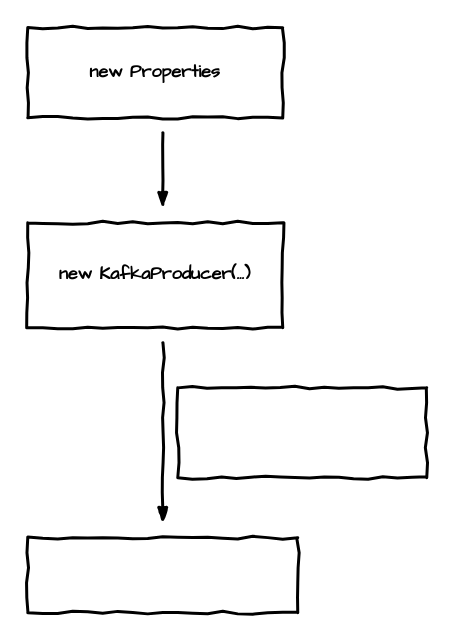
The diagram is 453 pixels wide and 639 high, and some of its shapes have lost their labels. Here are the shapes that lost their labels. From the top down, the centre of each, then its label:
the point at 302,432: new ProducerRecord() 1. 构建1条记录 2. 回调机制来处理返回结果
the point at 162,575: send(...)
